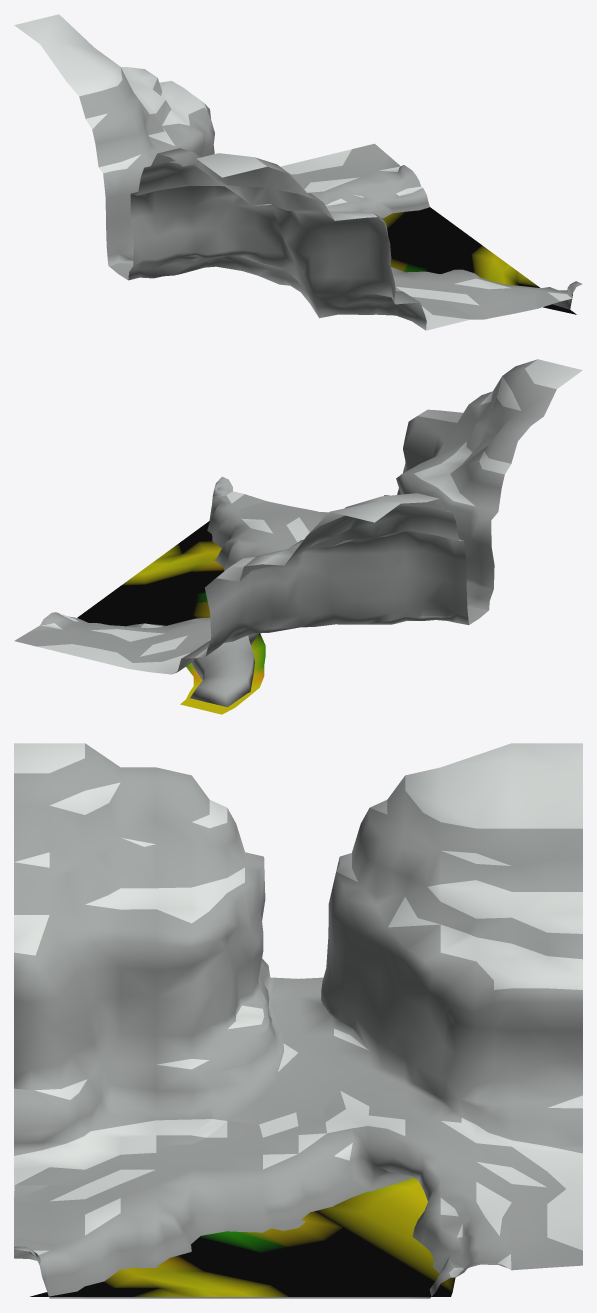
The picture shows the model from 3 angles, top to bottom: view 1: azimuth 30°, elevation 25°; view 2: azimuth 150°, elevation 25°; view 3: azimuth 270°, elevation 25°; orthographic projection. The views are drawn at different scales.
Parts seen in each view (by area): view 1: G:\FFXIV-MapTools\exports\f1t2\bg\ffxiv\fst_f1\twn\f1t2\bgpl (×10); view 2: G:\FFXIV-MapTools\exports\f1t2\bg\ffxiv\fst_f1\twn\f1t2\bgpl (×12); view 3: G:\FFXIV-MapTools\exports\f1t2\bg\ffxiv\fst_f1\twn\f1t2\bgpl (×13).
Part boxes in pixels (<box>): G:\FFXIV-MapTools\exports\f1t2\bg\ffxiv\fst_f1\twn\f1t2\bgpl (×10): <box>14,14,582,330</box>; G:\FFXIV-MapTools\exports\f1t2\bg\ffxiv\fst_f1\twn\f1t2\bgpl (×12): <box>14,359,582,714</box>; G:\FFXIV-MapTools\exports\f1t2\bg\ffxiv\fst_f1\twn\f1t2\bgpl (×13): <box>14,743,582,1298</box>.
Size of the model in its own units: 64 by 39.14 by 64.
